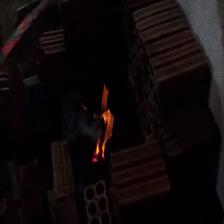fire: (90, 85, 114, 163)
